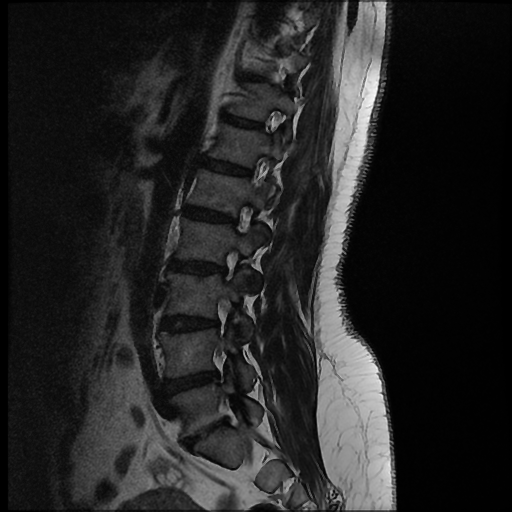LFS0: (224, 194, 259, 242), (213, 240, 247, 288)
